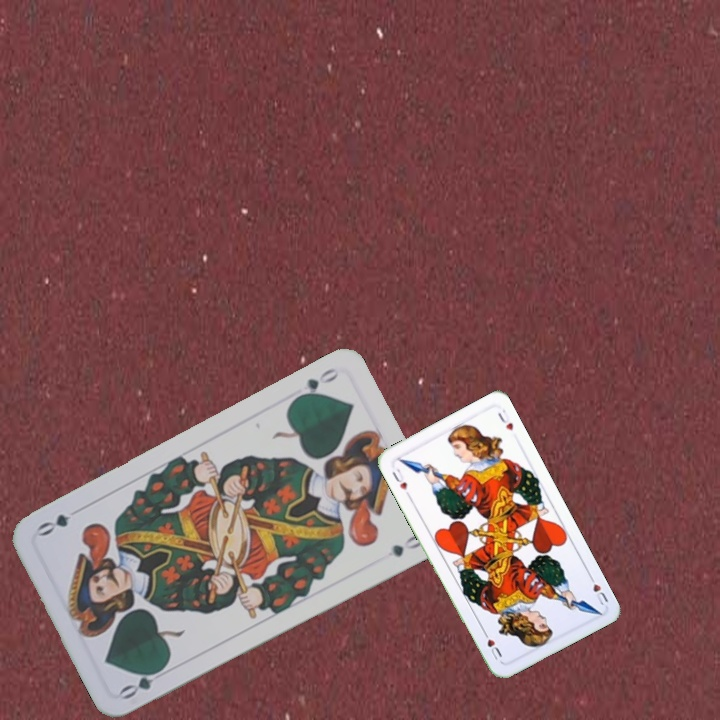GO: (116, 660, 171, 702), (289, 363, 342, 404)
HU: (584, 570, 611, 609), (388, 464, 410, 492)
